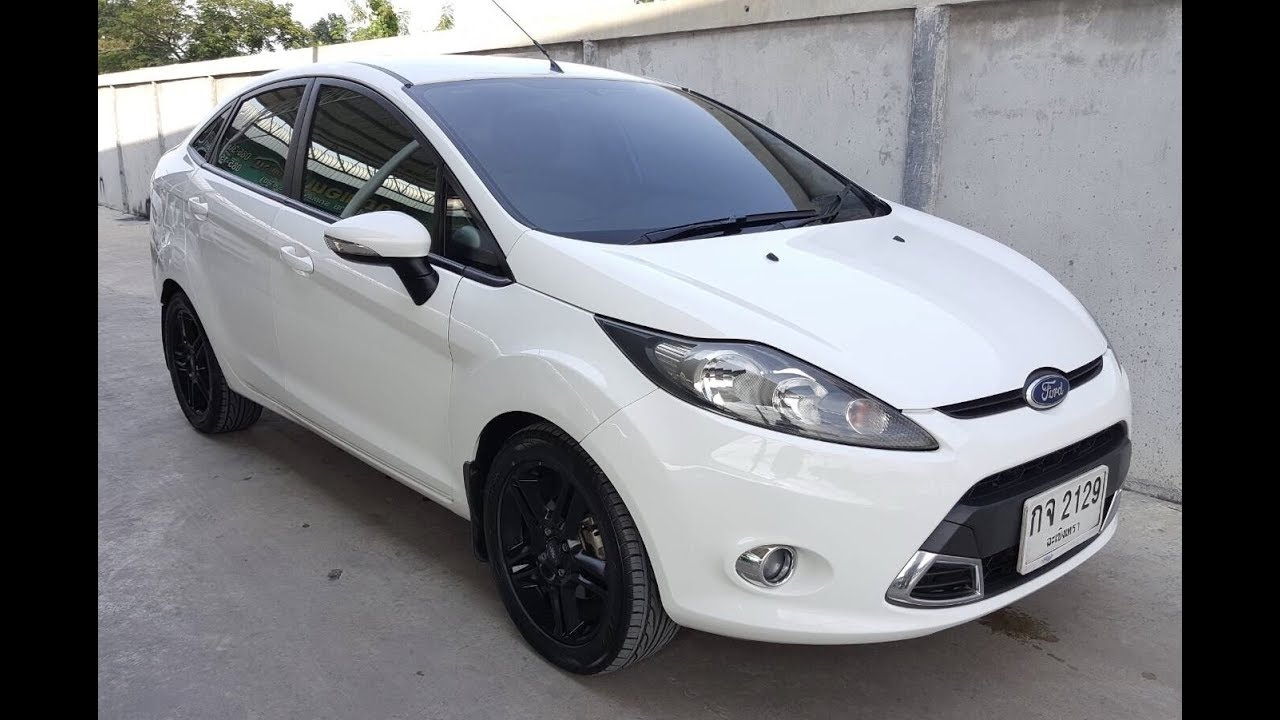sedan: (149, 49, 1140, 675)
